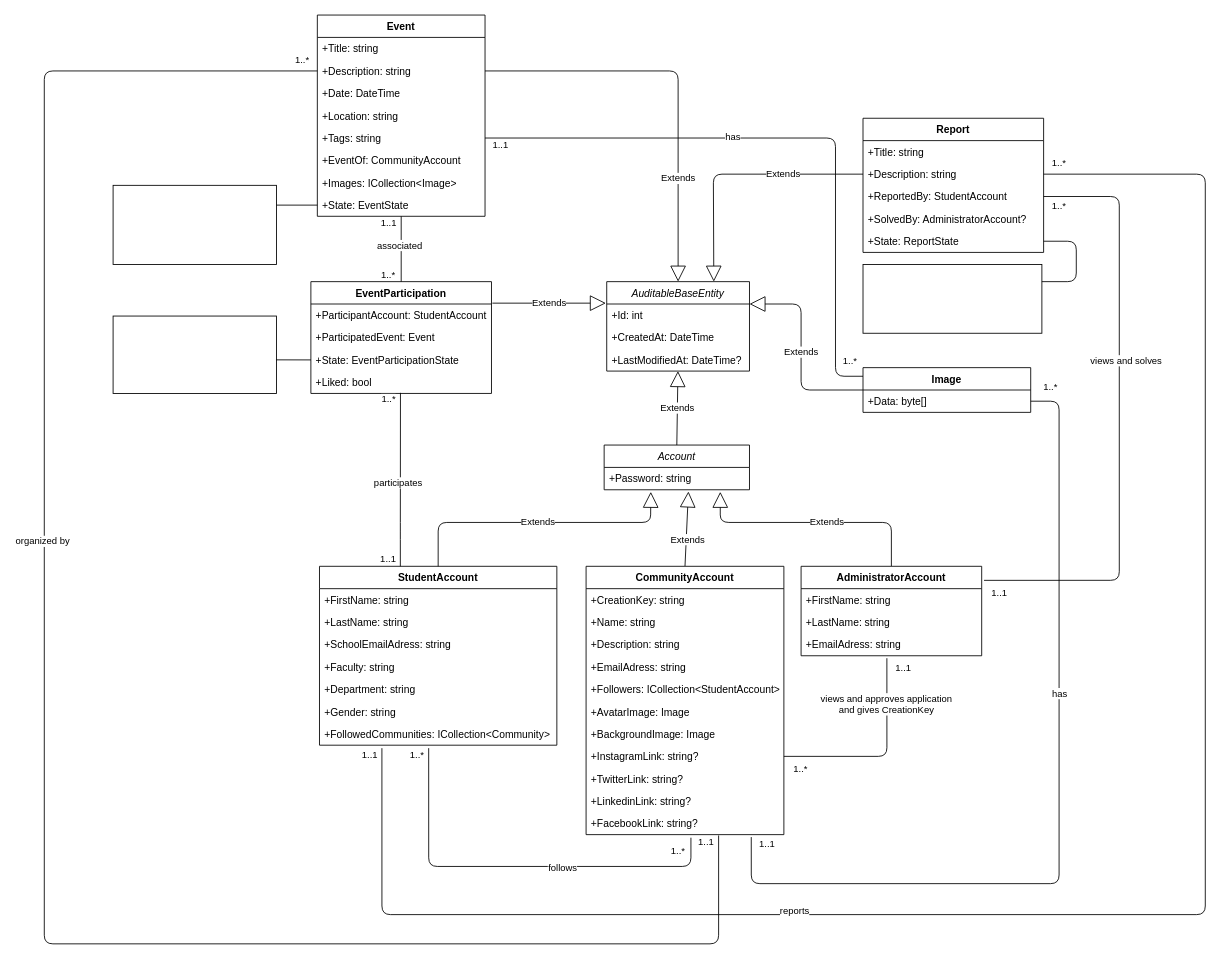
Some shapes in this 1221 by 960 pixel diagram are drawn without their labels. The shapes that lost their labels are listed below. From the top down, each one's centre as x and y in pixels, then its label:
At (x=194, y=224): "<<Enumeration>> EventState Active Ended Canceled".
At (x=952, y=298): "<<Enumeration>> ReportState Waiting Solved".
At (x=194, y=354): "<<Enumeration>> EventParticipationState Participating Abandoned Participated".
